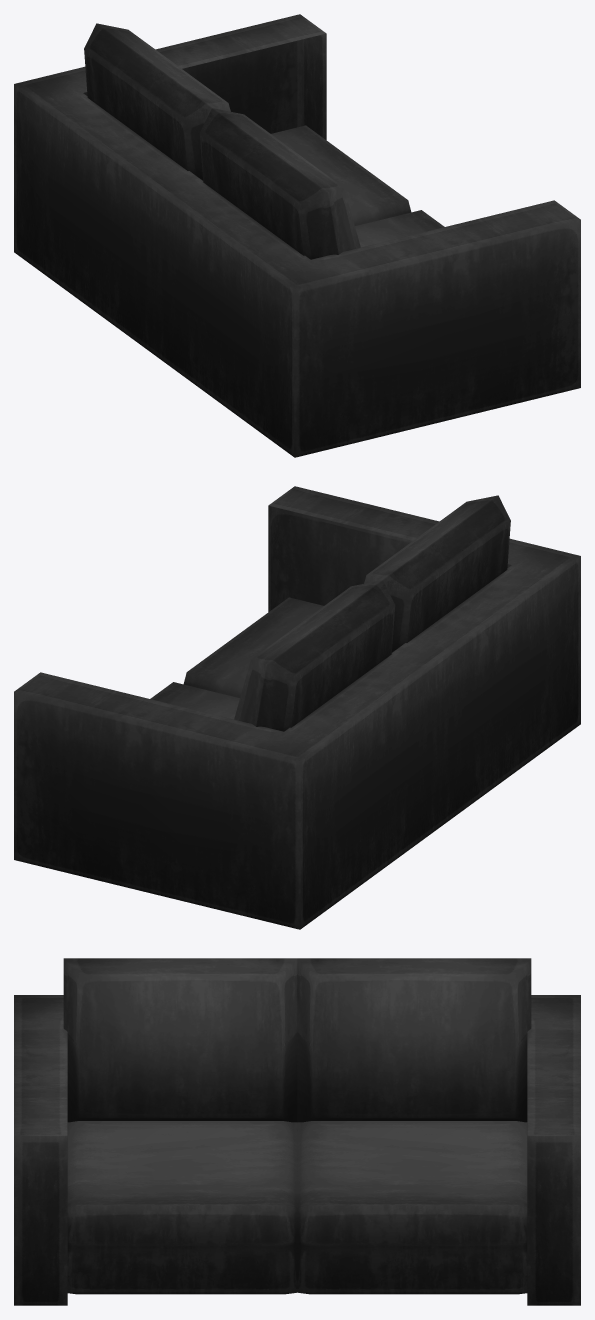
The model's file is sofablack.glb.
The picture shows the model from 3 angles, top to bottom: view 1: azimuth 30°, elevation 25°; view 2: azimuth 150°, elevation 25°; view 3: azimuth 270°, elevation 25°; orthographic projection.
Visible parts, largest first — view 1: Object_22.010; view 2: Object_22.010; view 3: Object_22.010.
Part boxes in pixels (bbox=[...]): Object_22.010: bbox=[14, 14, 580, 457]; Object_22.010: bbox=[14, 486, 580, 929]; Object_22.010: bbox=[14, 958, 580, 1305].
Size of the model in its own units: 0.8373 by 0.6546 by 1.42.
1 material, 1 textured.
